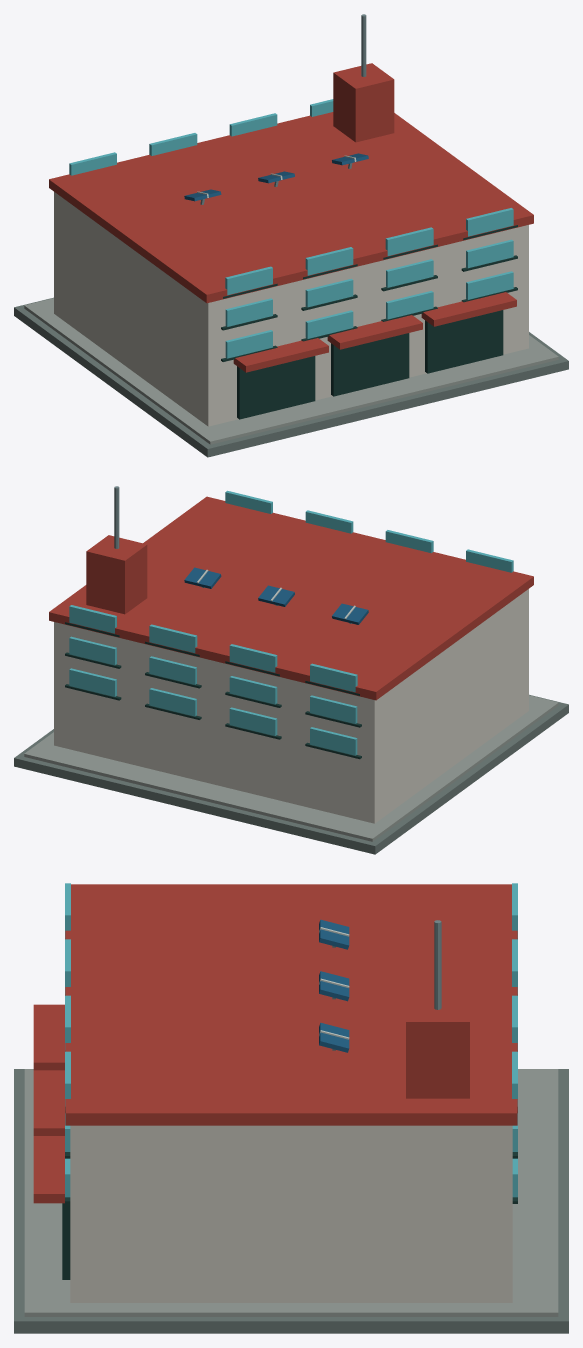
File: fire_lv3.glb
3 views of the same model, one above another, from view 1: azimuth 30°, elevation 25°; view 2: azimuth 150°, elevation 25°; view 3: azimuth 270°, elevation 25° (orthographic). The views are drawn at different scales.
Parts seen in each view (by area): view 1: rough, glossy, metallic; view 2: rough, glossy, metallic; view 3: rough, glossy, metallic.
Part boxes in pixels (x1,y1,x2,y2): rough: (14, 63, 568, 457); glossy: (69, 99, 513, 358); metallic: (184, 14, 368, 204); rough: (14, 496, 568, 854); glossy: (69, 490, 513, 755); metallic: (114, 486, 368, 624); rough: (14, 884, 568, 1333); glossy: (65, 883, 517, 1197); metallic: (319, 919, 441, 1052).
Bounding box in the file's own units: 9.8 × 6.73 × 9.1.
